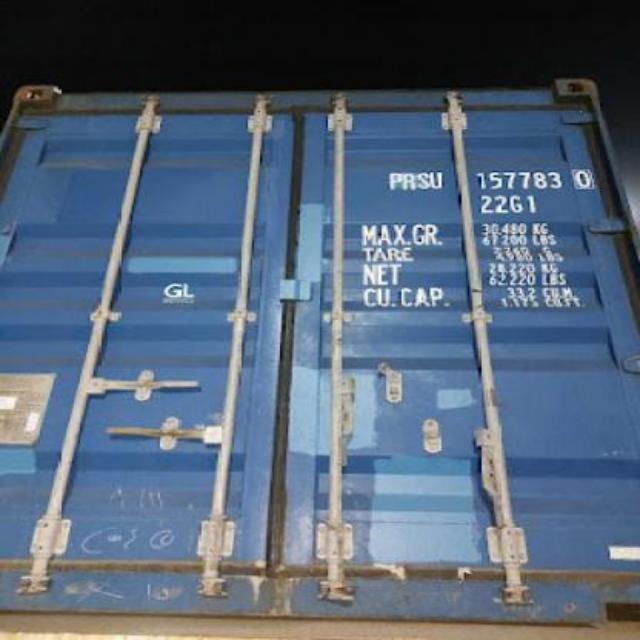0: (572, 164, 596, 192)
1: (474, 163, 488, 190)
3: (546, 166, 564, 194)
5: (488, 164, 502, 192)
7: (516, 164, 532, 192), (502, 164, 516, 193)
8: (532, 165, 546, 191)
P: (386, 168, 399, 194)
R: (401, 166, 414, 192)
S: (416, 165, 428, 195)
U: (428, 166, 442, 190)
